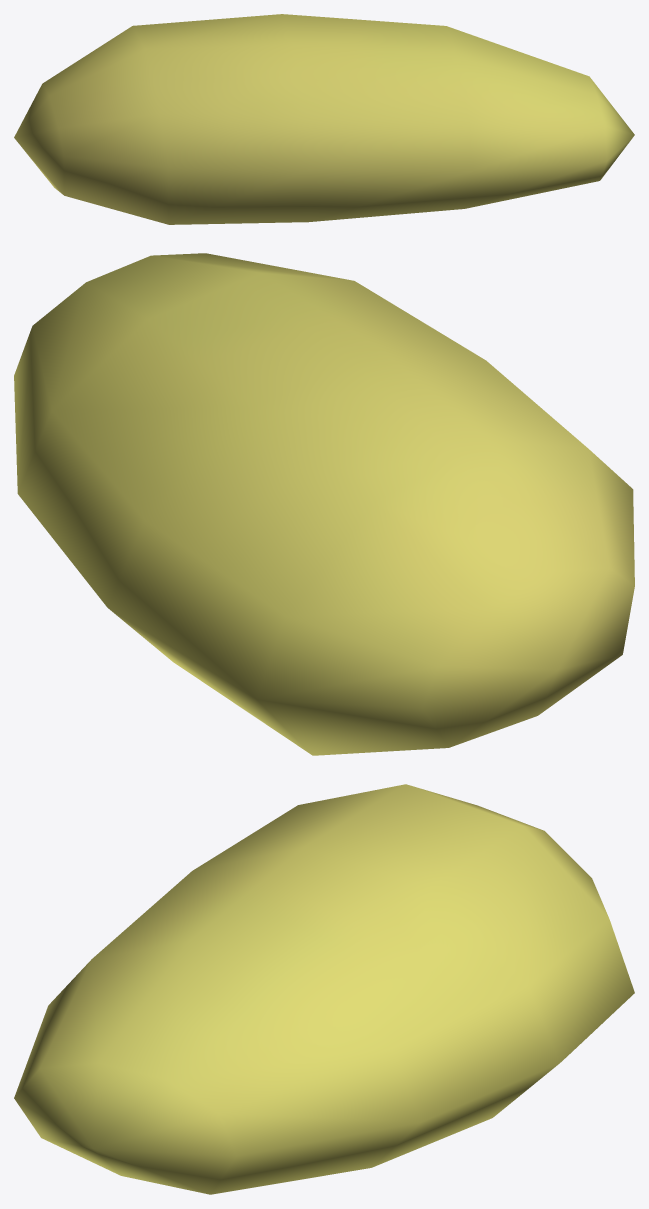
The model's file is PC_Man_Eyebrow009_L.glb.
3 views of the same model, one above another, from view 1: azimuth 30°, elevation 25°; view 2: azimuth 150°, elevation 25°; view 3: azimuth 270°, elevation 25° (orthographic). The views are drawn at different scales.
Visible parts, largest first — view 1: PC_Man_Eyebrow009_L_mesh; view 2: PC_Man_Eyebrow009_L_mesh; view 3: PC_Man_Eyebrow009_L_mesh.
Part boxes in pixels (left/top/right/bottom): PC_Man_Eyebrow009_L_mesh: left=14, top=14, right=634, bottom=224; PC_Man_Eyebrow009_L_mesh: left=14, top=253, right=634, bottom=755; PC_Man_Eyebrow009_L_mesh: left=14, top=784, right=634, bottom=1194.
Size of the model in its own units: 0.1055 by 0.0393 by 0.0914.
Materials: 1 (1 with a texture image).
